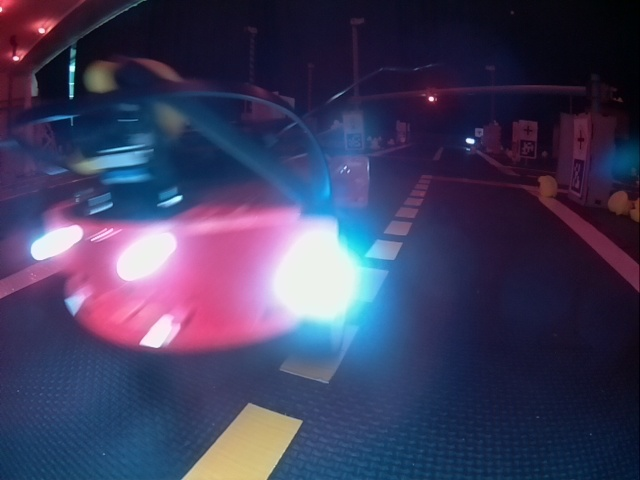Duckie: (608, 191, 629, 211), (538, 177, 558, 197)
Duckiebot: (15, 90, 364, 354)
Intersection sign: (575, 124, 586, 154), (521, 122, 536, 137)
QR code: (572, 160, 585, 194), (345, 133, 363, 150), (521, 141, 536, 157)
Traffic light: (425, 93, 438, 104)
